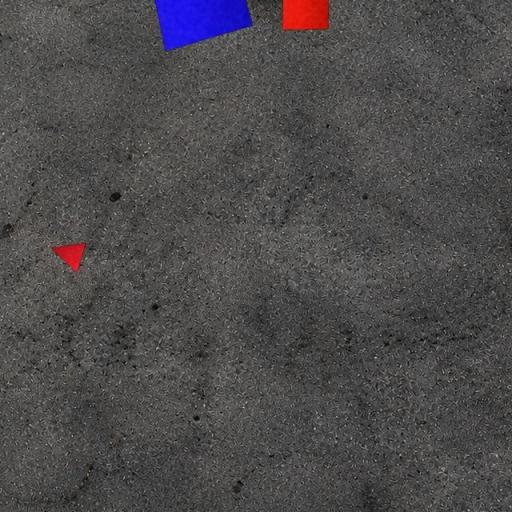BLUE_SQUARE: (147, 0, 254, 52)
RED_SQUARE: (280, 0, 330, 31)
